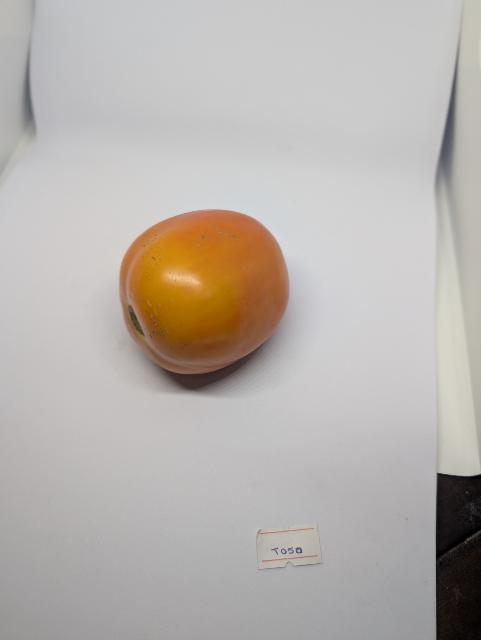turning: (115, 189, 301, 385)
